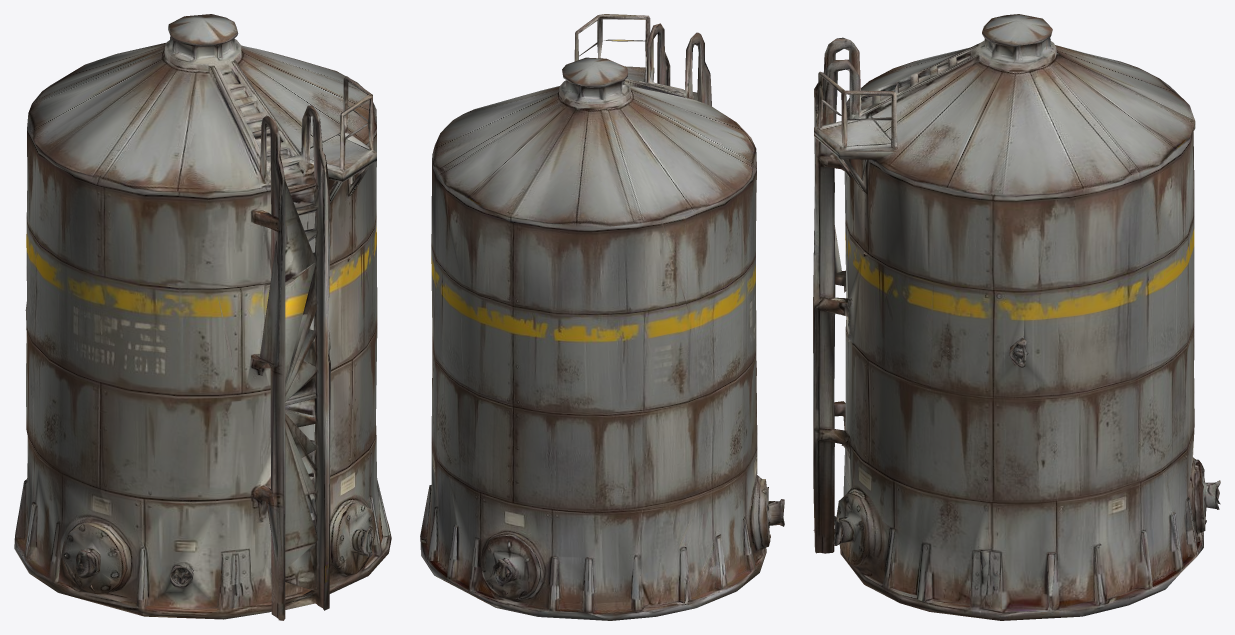
Rendered from silo.glb.
3 views of the same model, side by side, from view 1: azimuth 30°, elevation 25°; view 2: azimuth 150°, elevation 25°; view 3: azimuth 270°, elevation 25° (orthographic). The views are drawn at different scales.
Parts seen in each view (by area): view 1: Mesh_0; view 2: Mesh_0; view 3: Mesh_0.
Boxes of the visible parts, <box> form: Mesh_0: <box>14,14,391,620</box>; Mesh_0: <box>420,14,784,620</box>; Mesh_0: <box>813,14,1220,620</box>.
Size of the model in its own units: 1.25 by 1.9 by 1.35.
1 material, 1 textured.
